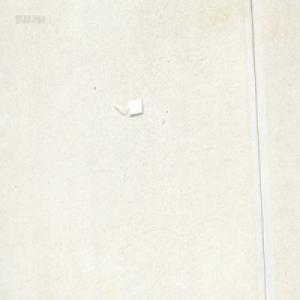LuggageTag: (111, 97, 143, 115)
